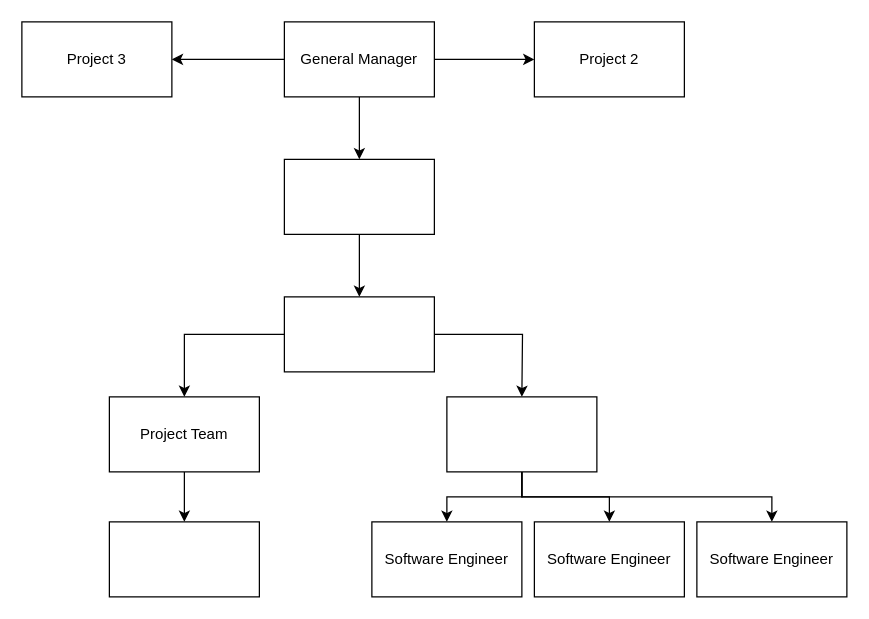
Some shapes in this 869 by 619 pixel diagram are drawn without their labels. Here are the shapes that lost their labels. From the top down, the centre of each, then its label:
the point at 358,196: Project 1
the point at 358,334: Project Manager
the point at 521,434: Development Team
the point at 183,559: System Analyst
